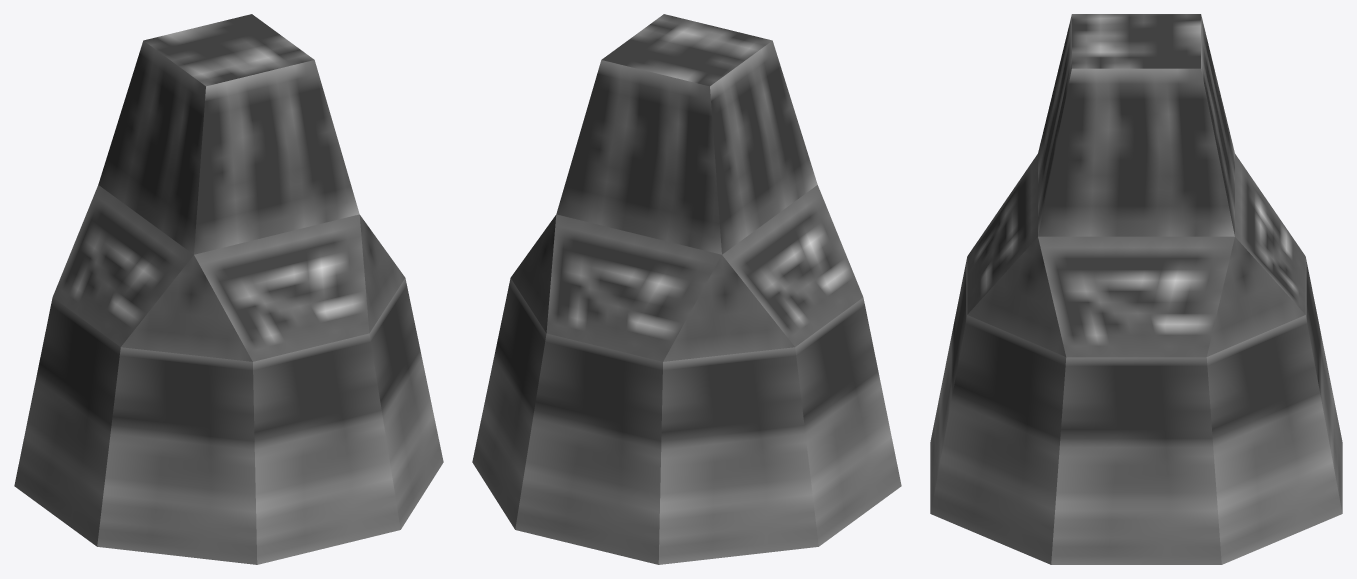
The picture shows the model from 3 angles, left to right: view 1: azimuth 30°, elevation 25°; view 2: azimuth 150°, elevation 25°; view 3: azimuth 270°, elevation 25°; orthographic projection. The views are drawn at different scales.
Parts seen in each view (by area): view 1: root; view 2: root; view 3: root.
Part boxes in pixels (x1,y1,x2,y2): root: [14, 14, 443, 564]; root: [472, 14, 901, 564]; root: [930, 14, 1342, 564].
Size of the model in its own units: 0.8535 by 0.998 by 0.8535.
Materials: 1 (1 with a texture image).
